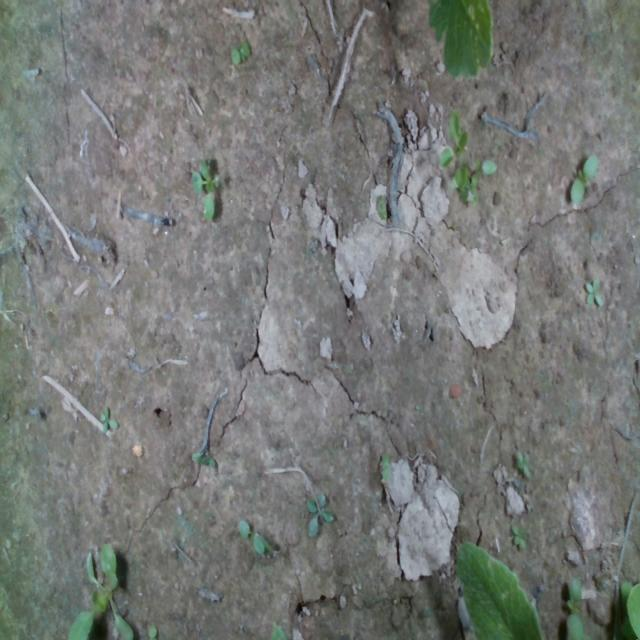weed: (569, 151, 599, 205), (236, 517, 264, 555), (585, 278, 603, 308), (229, 40, 251, 64)
